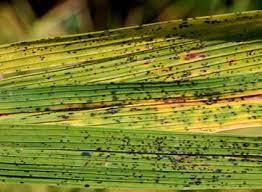Leaf Smut: (0, 9, 262, 91), (0, 124, 262, 190), (0, 73, 262, 133), (152, 141, 212, 170)
